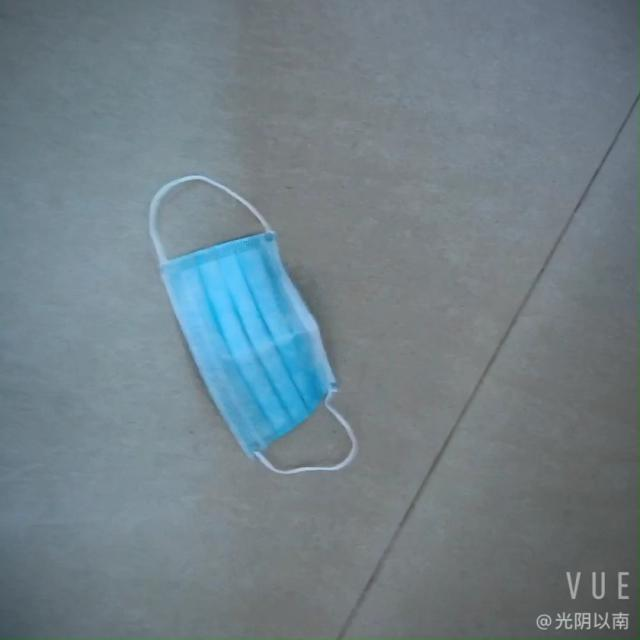non-organic waste: (155, 229, 328, 457)
